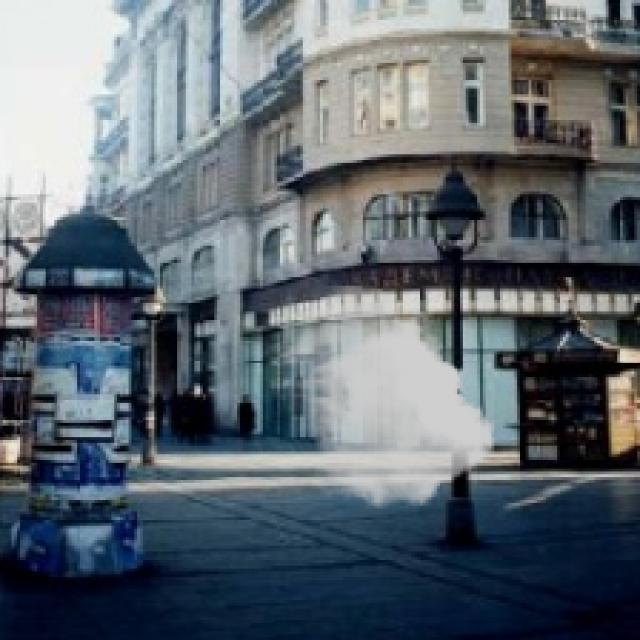Smoke: (277, 286, 494, 508)
